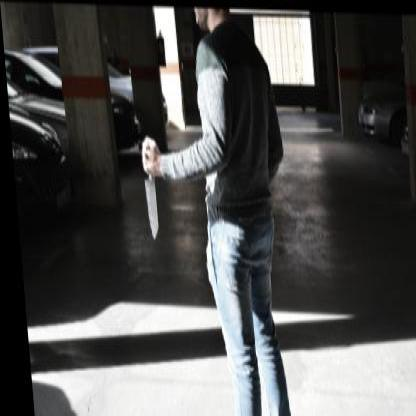knife: (138, 164, 158, 238)
